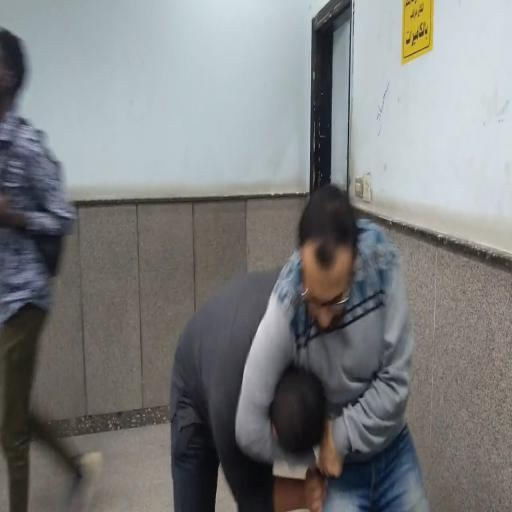violencia: (163, 169, 433, 512)
